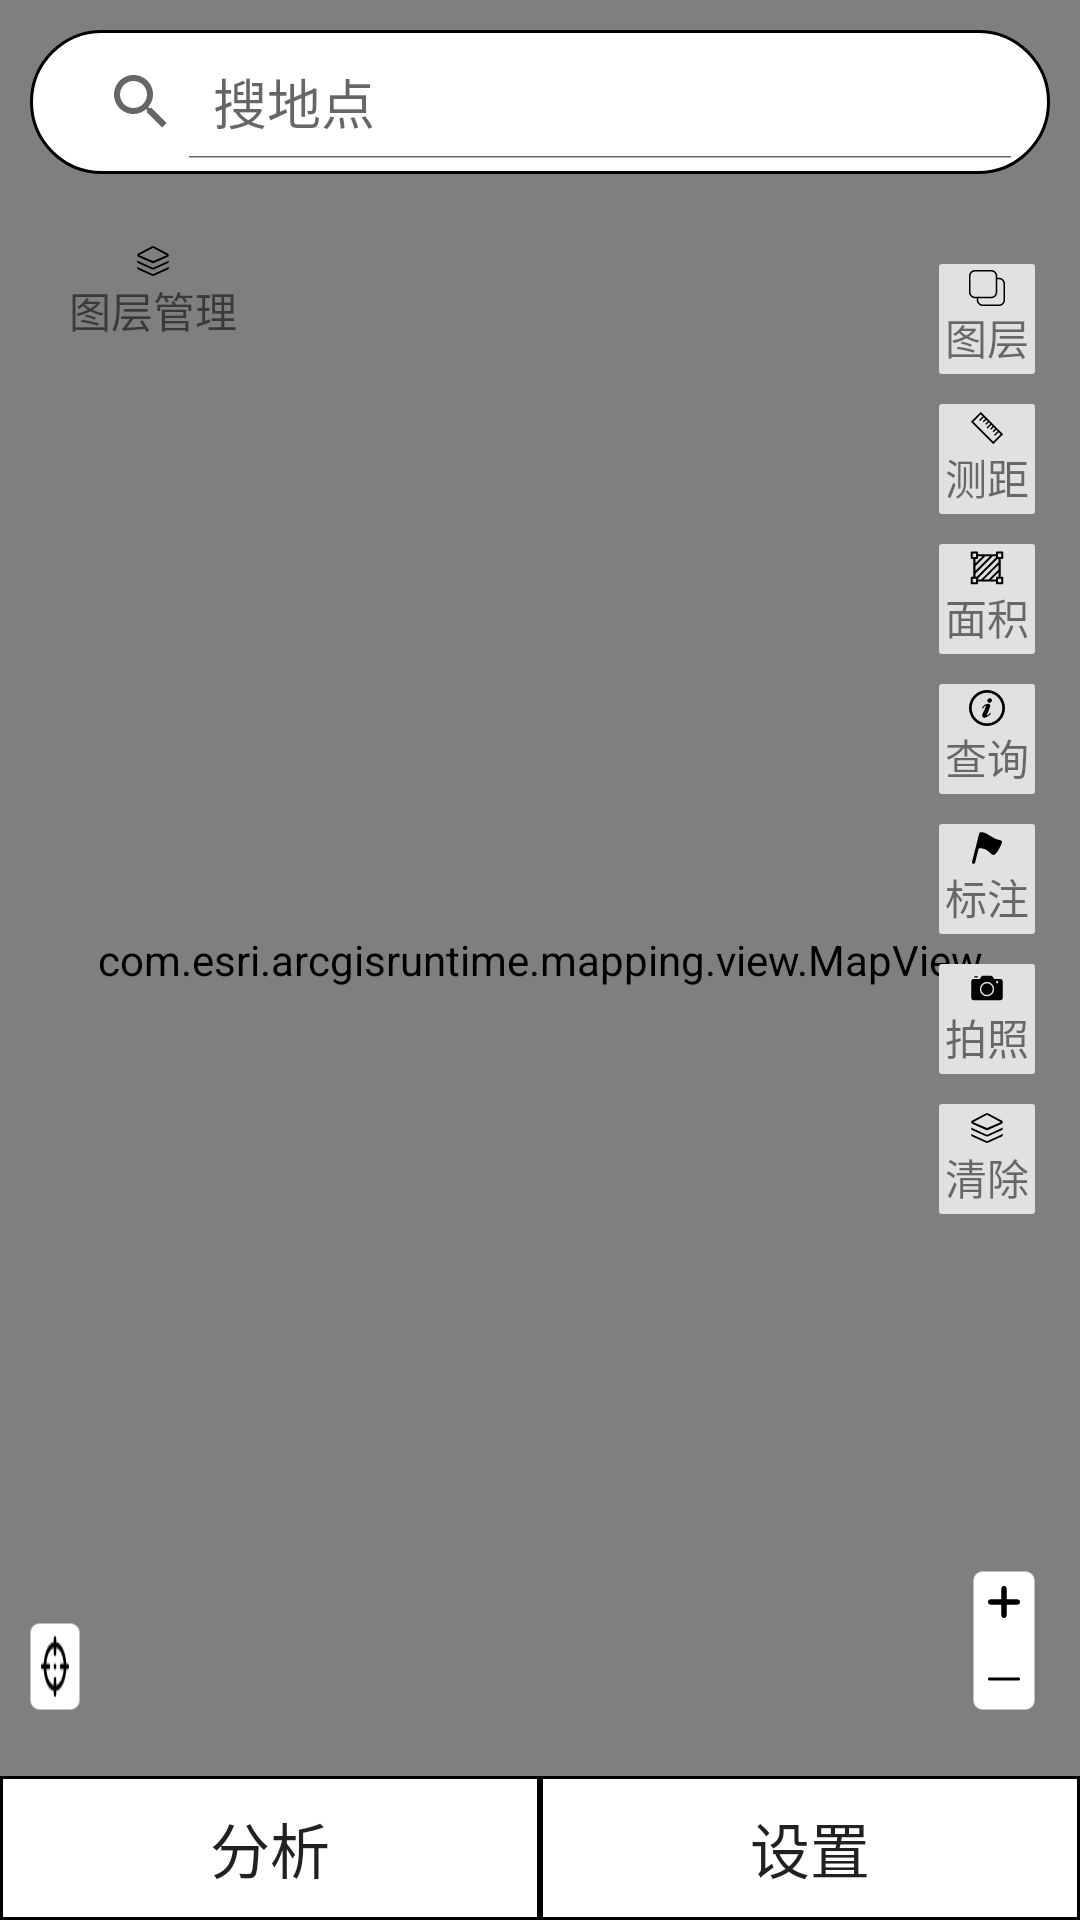

Named icons in this screenshot (1080px x 1920px) and their bounding boxes, (x1, y1, x2, y2):
map location: (41, 1635, 69, 1698)
map zoom in: (988, 1586, 1020, 1618)
